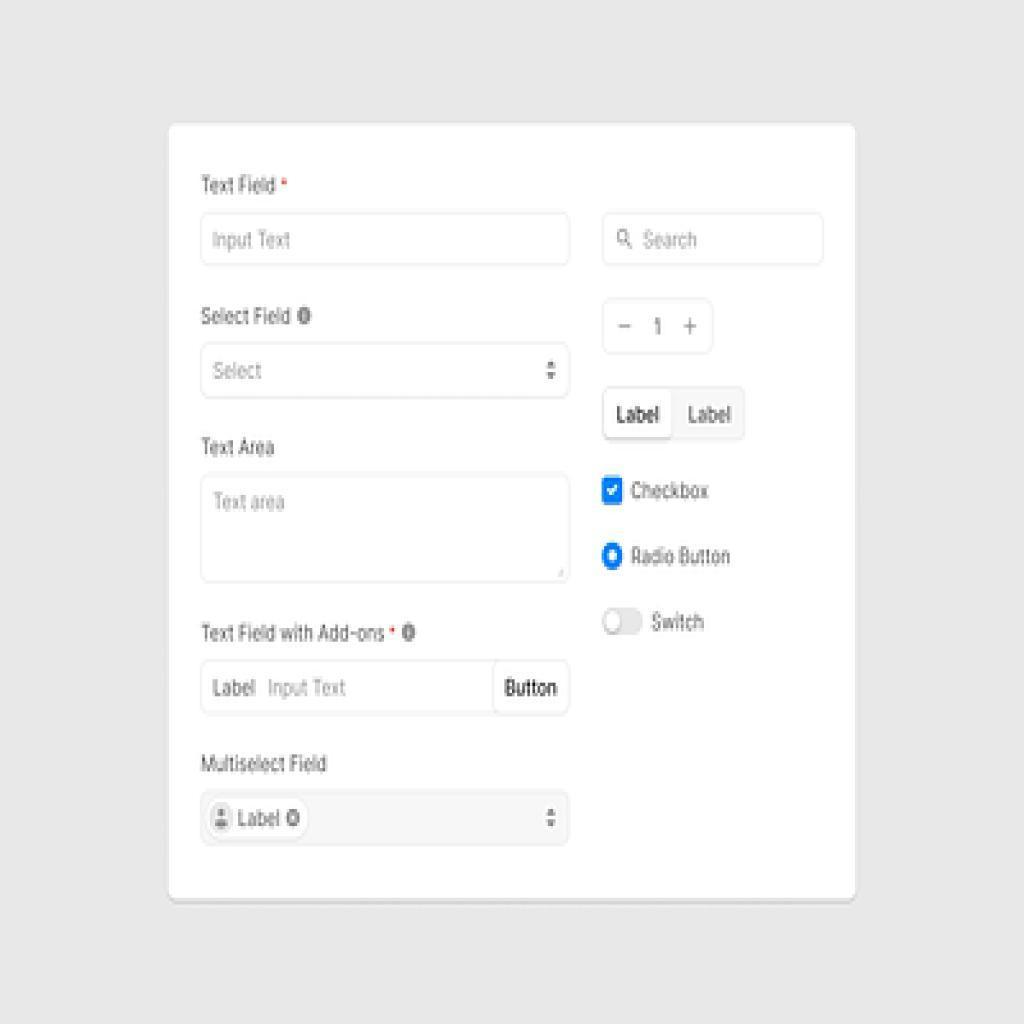button: (492, 659, 571, 712)
checkbox: (604, 476, 626, 506)
dropdown: (204, 342, 567, 399), (201, 791, 568, 846)
input: (203, 215, 570, 265), (202, 665, 494, 715), (606, 215, 827, 265)
radio: (596, 532, 628, 584)
switch: (599, 603, 650, 646)
